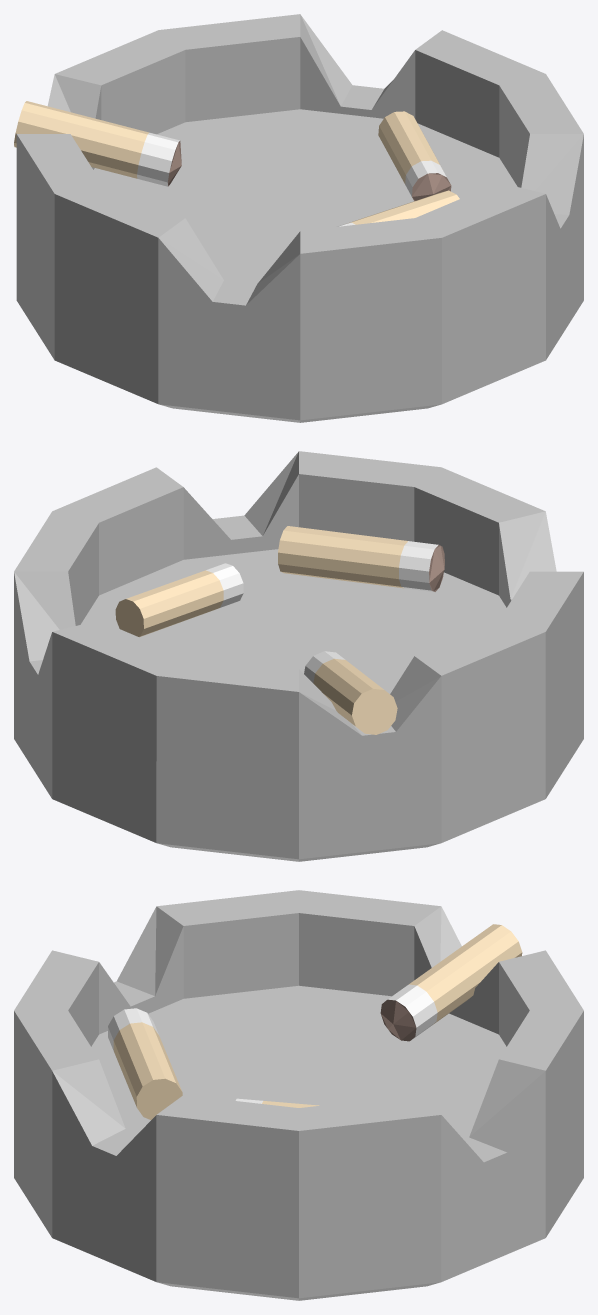
File: Ashtray.fbx
3 views of the same model, one above another, from view 1: azimuth 30°, elevation 25°; view 2: azimuth 150°, elevation 25°; view 3: azimuth 270°, elevation 25° (orthographic).
Visible parts, largest first — view 1: model; view 2: model; view 3: model.
Boxes of the visible parts, box(x1,y1,x2,y2) form: model: box(14, 14, 583, 422); model: box(14, 451, 583, 861); model: box(14, 890, 583, 1300).
Bounding box in the file's own units: 71 × 25 × 71.
